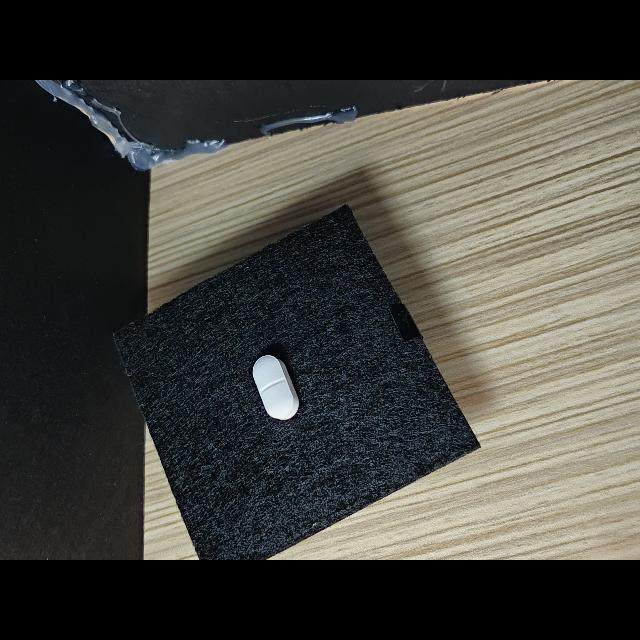Intact Pill: (253, 355, 299, 420)
